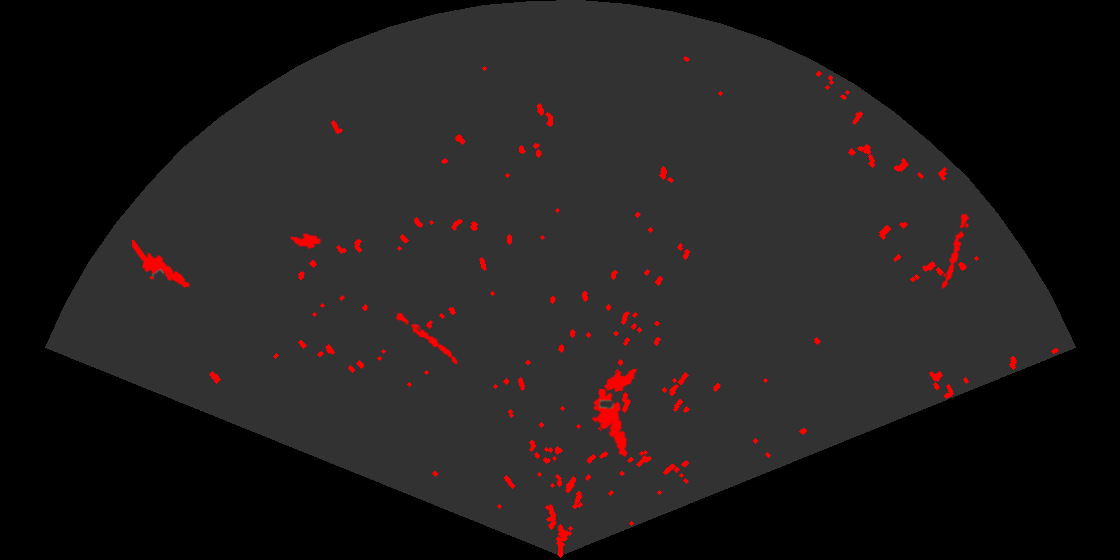AUV: (602, 367, 639, 394), (288, 231, 323, 251)
chain: (390, 307, 460, 366), (940, 210, 971, 291)
frogman: (132, 240, 191, 290), (590, 389, 629, 457)
